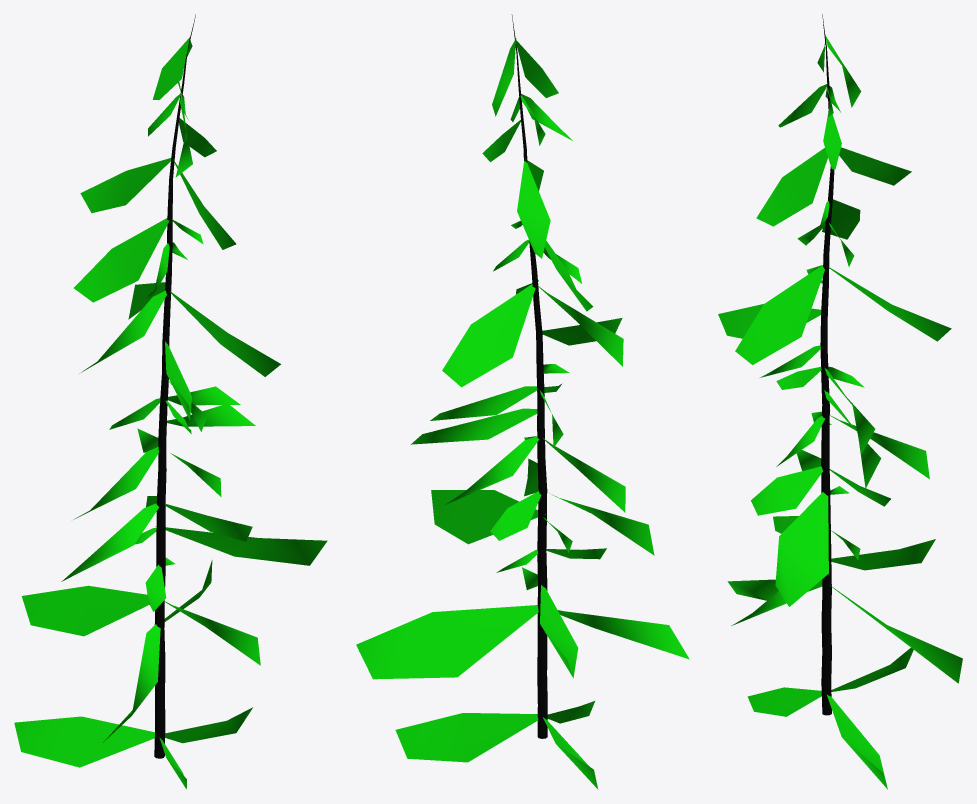
File: pine_006_03.FBX
3 renders of one model, left to right at view 1: azimuth 30°, elevation 25°; view 2: azimuth 150°, elevation 25°; view 3: azimuth 270°, elevation 25°, orthographic. The views are drawn at different scales.
Parts seen in each view (by area): view 1: pine_006_03_LOD0; view 2: pine_006_03_LOD0; view 3: pine_006_03_LOD0.
Part boxes in pixels (bbox=[...]): pine_006_03_LOD0: bbox=[14, 14, 327, 789]; pine_006_03_LOD0: bbox=[356, 14, 689, 789]; pine_006_03_LOD0: bbox=[718, 14, 962, 789].
Size of what is drawn, in the model's own units: 162 by 474 by 142.
